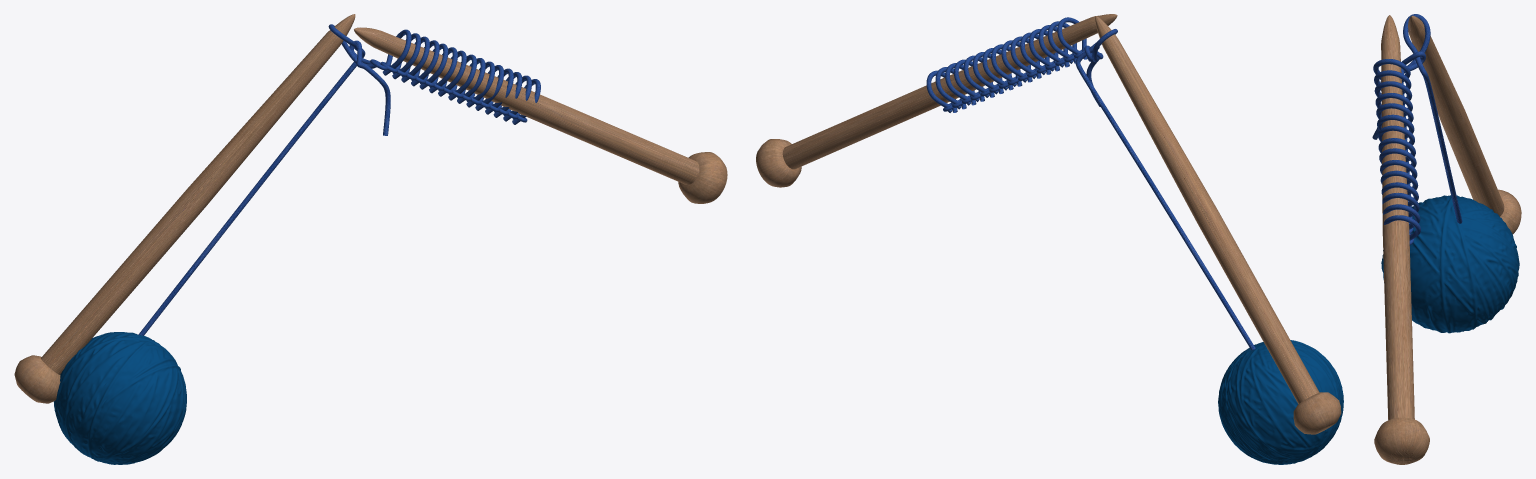
Rendered from purl4.glb.
3 views of the same model, side by side, from view 1: azimuth 30°, elevation 25°; view 2: azimuth 150°, elevation 25°; view 3: azimuth 270°, elevation 25° (orthographic). The views are drawn at different scales.
Parts seen in each view (by area): view 1: SM_Globe6HD_retopo_blinn2_0_4, niddle.001, niddle, topring.015; view 2: niddle.001, SM_Globe6HD_retopo_blinn2_0_4, niddle, topring.015; view 3: SM_Globe6HD_retopo_blinn2_0_4, niddle, niddle.001, topring.015, topring, topring.012, topring.010, topring.013, topring.008, topring.014, topring.009, topring.011 (+7 smaller).
Boxes of the visible parts, x1,y1,x2,y2 form: SM_Globe6HD_retopo_blinn2_0_4: (53, 332, 186, 464); niddle.001: (14, 14, 355, 403); niddle: (354, 27, 727, 203); topring.015: (138, 24, 390, 335); niddle.001: (1095, 16, 1341, 434); SM_Globe6HD_retopo_blinn2_0_4: (1218, 340, 1343, 464); niddle: (756, 14, 1117, 187); topring.015: (1075, 29, 1255, 350); SM_Globe6HD_retopo_blinn2_0_4: (1381, 195, 1519, 333); niddle: (1374, 15, 1429, 464); niddle.001: (1408, 15, 1521, 234); topring.015: (1372, 14, 1462, 223); topring: (1383, 215, 1420, 240); topring.012: (1374, 81, 1412, 105); topring.010: (1376, 103, 1413, 127); topring.013: (1374, 70, 1411, 94); topring.008: (1377, 125, 1414, 150); topring.014: (1373, 59, 1410, 82); topring.009: (1377, 114, 1414, 139); topring.011: (1375, 93, 1412, 116).
Size of the model in its own units: 5.88 by 3.45 by 1.11.
Materials: 3 (2 with a texture image).
